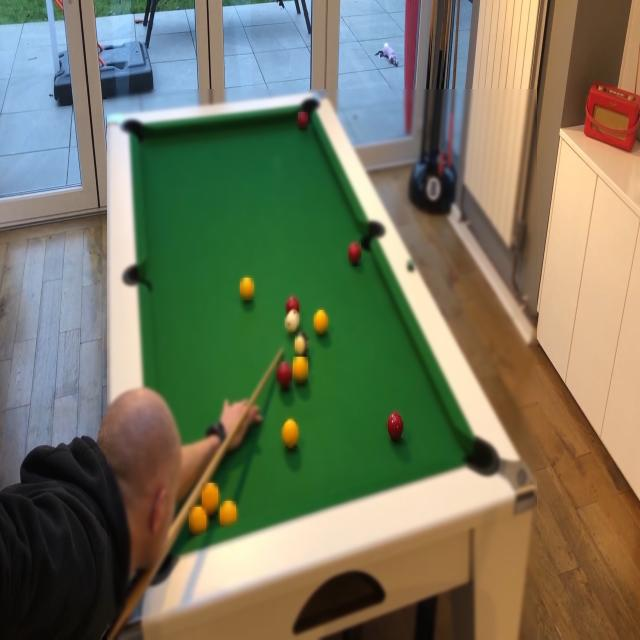Ball: (202, 483, 218, 515), (189, 507, 206, 536), (387, 411, 403, 441), (282, 419, 298, 448), (277, 362, 292, 388), (220, 501, 236, 525), (293, 358, 308, 383), (285, 308, 299, 334), (314, 310, 328, 334), (295, 332, 309, 356), (240, 278, 254, 300), (349, 242, 361, 266), (286, 297, 299, 311), (298, 112, 308, 130)
Billiard table: (107, 89, 537, 640)
